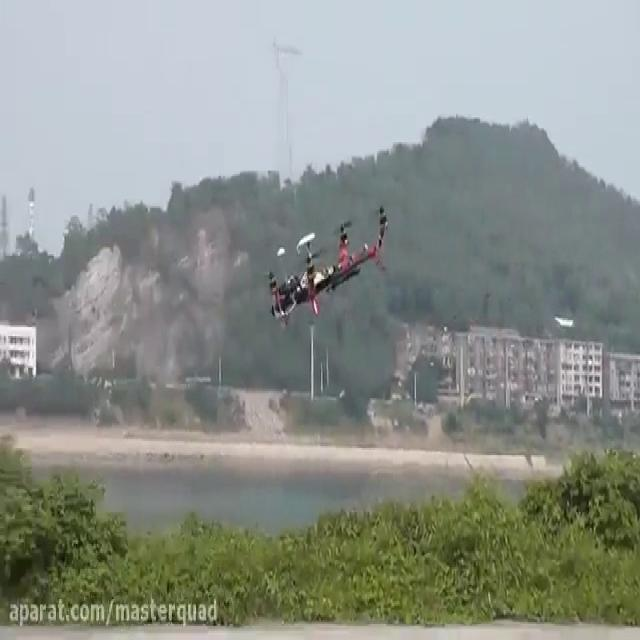drone: (262, 198, 391, 324)
